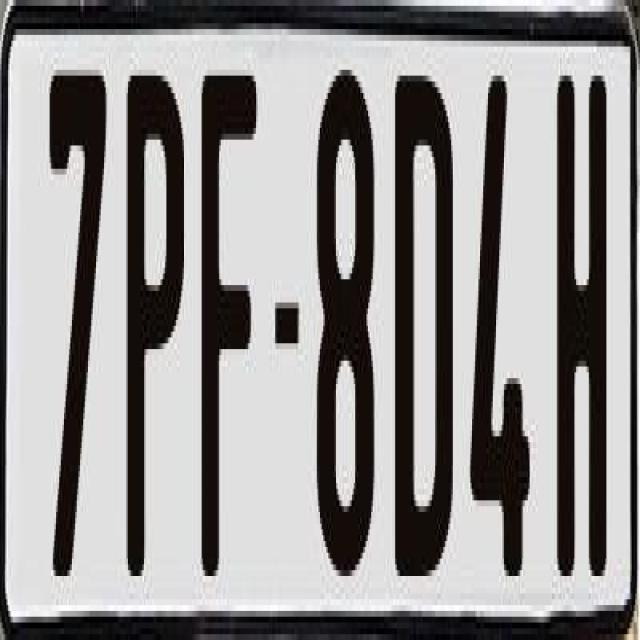4: (467, 64, 531, 570)
7: (44, 64, 110, 582)
8: (312, 58, 376, 599)
D: (390, 76, 456, 600)
F: (200, 58, 256, 582)
H: (557, 70, 608, 582)
P: (121, 63, 186, 600)
